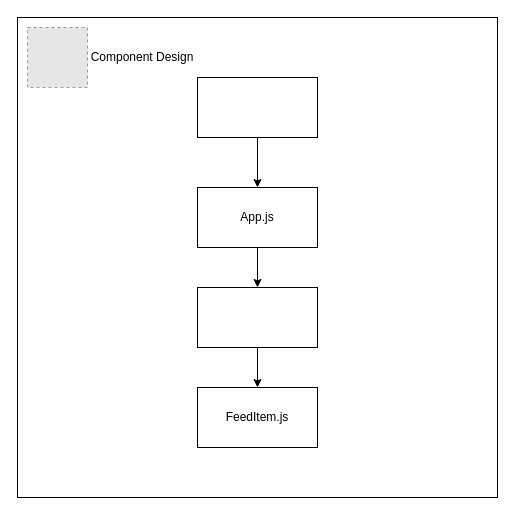
Image size: 515x515. Some labels were removed from this diagram. Grey dashed boxes stand in for pictures. The shapes that lost their labels are listed below. From the top down, each one's centre as x and y in pixels, then its label:
At point 257,107: "Index.js".
At point 257,317: "FeedList.js".
